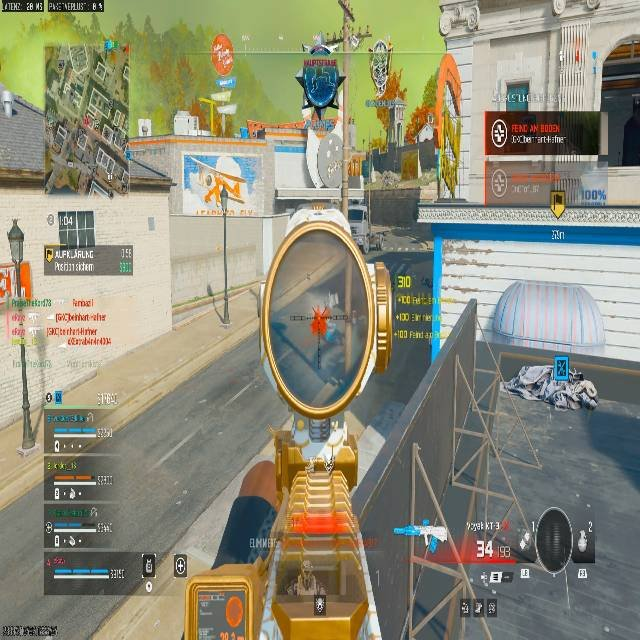head: (568, 367, 583, 383)
